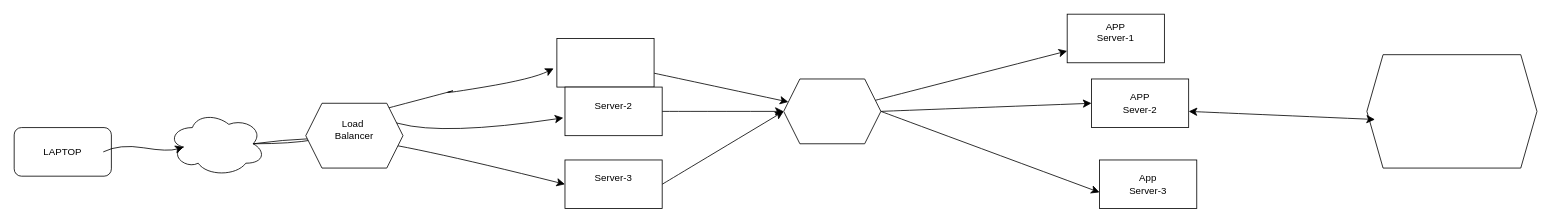
The diagram is 1551 pixels wide and 223 high, and some of its shapes have lost their labels. Each missing label, with the centre of its shape:
"Internet" goes at [216,143].
"Load Balance 2" goes at [832,111].
"Server-1" goes at [605,62].
